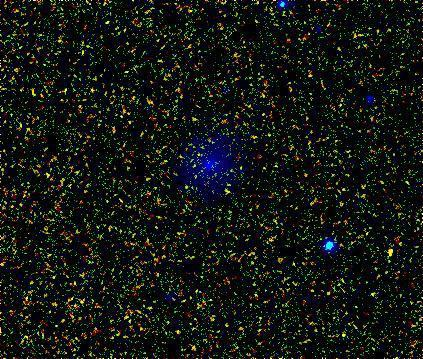star: (375, 237, 405, 267)
